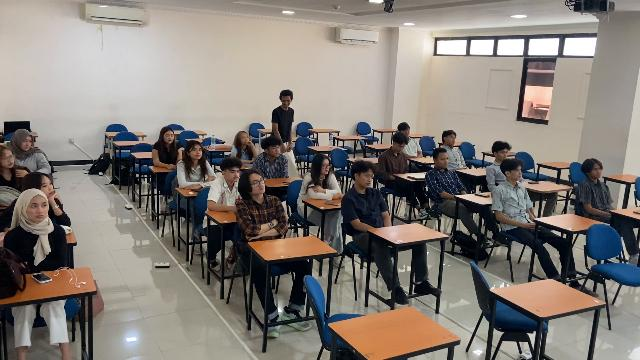fokus: (16, 194, 48, 230), (577, 157, 608, 190), (347, 161, 377, 192), (500, 158, 526, 190), (309, 155, 335, 183), (485, 137, 514, 162), (32, 173, 57, 201), (264, 139, 286, 169), (431, 146, 454, 173), (244, 172, 267, 197), (440, 127, 462, 153), (222, 158, 242, 185), (16, 133, 38, 155), (233, 127, 254, 149), (0, 145, 17, 172), (192, 145, 205, 167), (397, 120, 412, 139)
